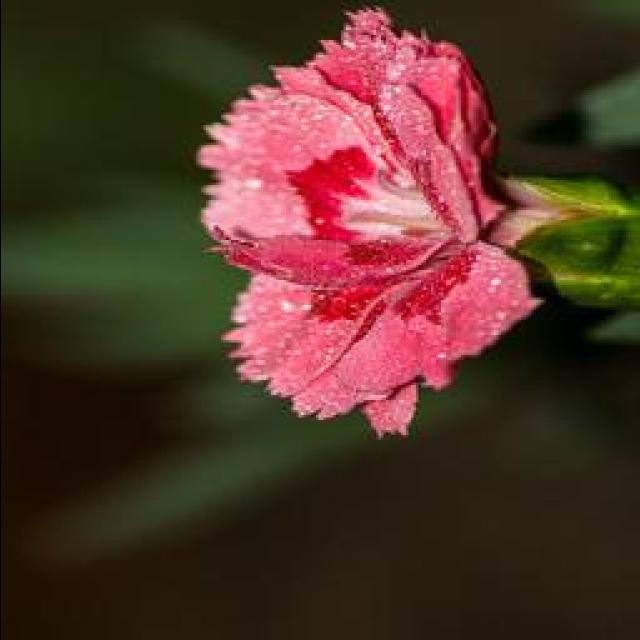carnation: (177, 4, 569, 478)
